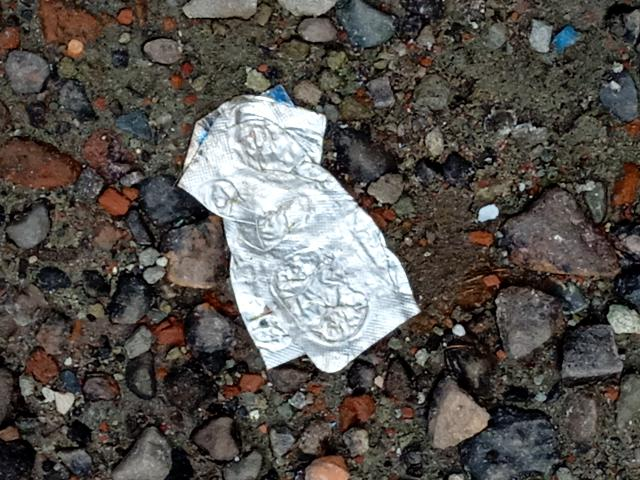medicine: (143, 58, 431, 398)
